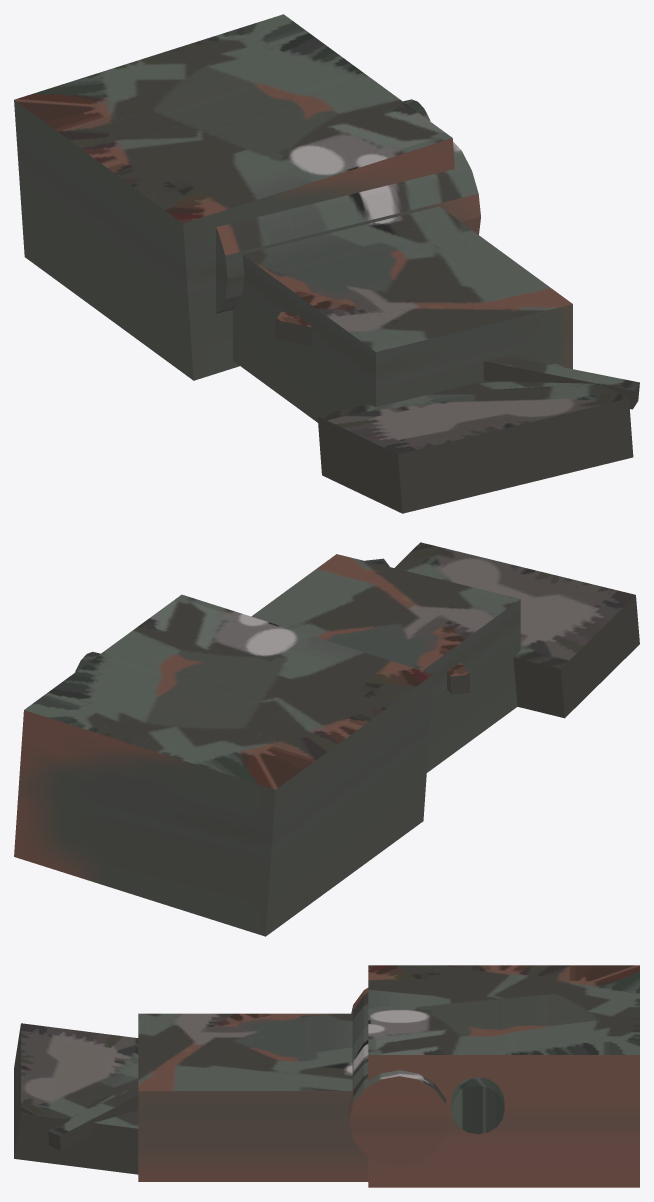
File: Building_AncientWarwalkerLeg.glb
3 views of the same model, one above another, from view 1: azimuth 30°, elevation 25°; view 2: azimuth 150°, elevation 25°; view 3: azimuth 270°, elevation 25° (orthographic). The views are drawn at different scales.
Visible parts, largest first — view 1: AncientWarwalkerLeg; view 2: AncientWarwalkerLeg; view 3: AncientWarwalkerLeg.
Part boxes in pixels (box(x1,y1,x2,y2)): AncientWarwalkerLeg: box(14, 14, 639, 513); AncientWarwalkerLeg: box(14, 542, 639, 936); AncientWarwalkerLeg: box(14, 965, 639, 1187).
Size of the model in its own units: 1.69 by 0.9526 by 3.74.
1 material, 1 textured.
